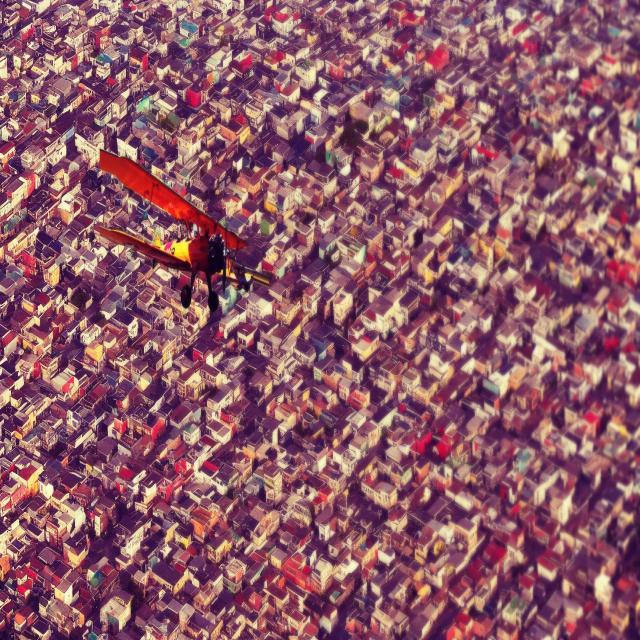airplane: (93, 146, 268, 314)
